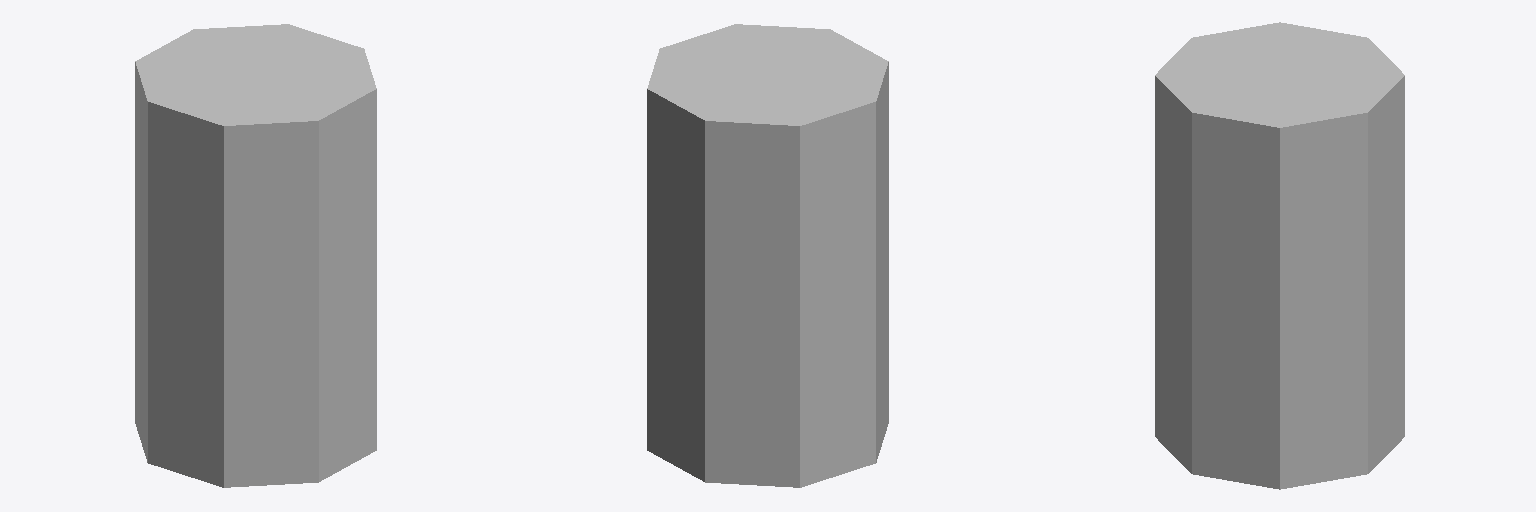
The model's file is woodstovepipe02.obj.
The picture shows the model from 3 angles: view 1: azimuth 30°, elevation 25°; view 2: azimuth 150°, elevation 25°; view 3: azimuth 270°, elevation 25°; orthographic projection.
Parts seen in each view (by area): view 1: Cylinder; view 2: Cylinder; view 3: Cylinder.
Boxes of the visible parts, <box> form: Cylinder: <box>135,24,376,487</box>; Cylinder: <box>647,24,888,487</box>; Cylinder: <box>1155,22,1404,489</box>.
Size of the model in its own units: 0.2134 by 0.3405 by 0.2134.